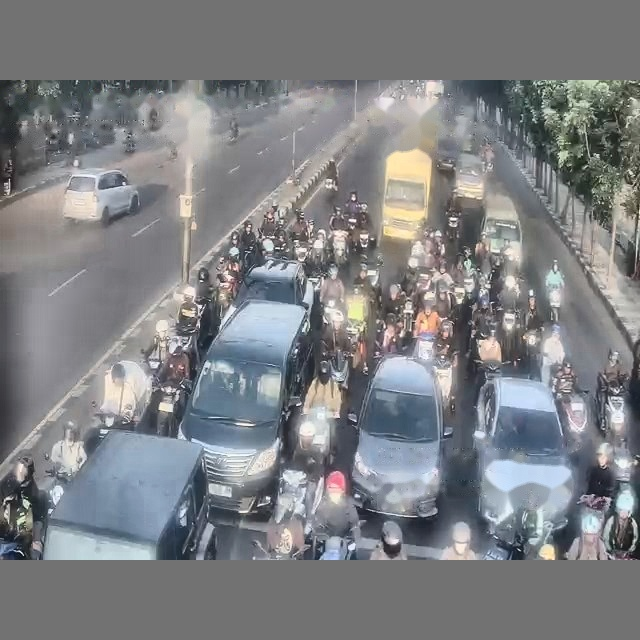Mobil: (177, 300, 312, 514), (43, 431, 216, 559), (348, 355, 452, 518), (474, 377, 574, 530), (221, 259, 315, 325), (63, 169, 139, 225), (481, 193, 522, 263), (455, 152, 484, 204), (436, 138, 458, 174)
Motor: (482, 510, 552, 559), (154, 379, 190, 436), (556, 390, 588, 452), (600, 381, 625, 439), (433, 355, 454, 413), (523, 330, 541, 379), (332, 230, 348, 267), (547, 286, 561, 323)
Truk: (382, 148, 432, 240)
